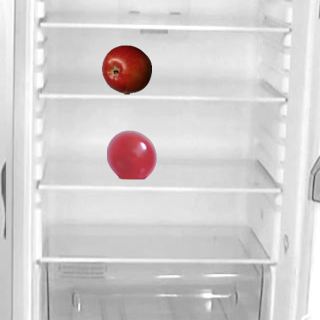Apple Braeburn: (101, 44, 151, 94)
Redcurrant: (106, 129, 156, 179)
